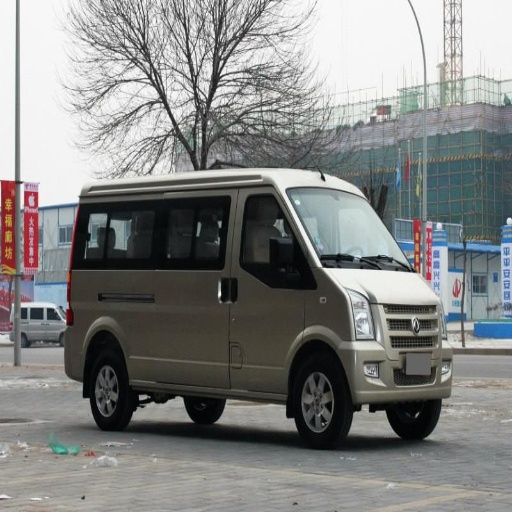front_bumper: (348, 303, 452, 400)
front_right_door: (223, 187, 309, 386)
trunk: (71, 272, 107, 366)
